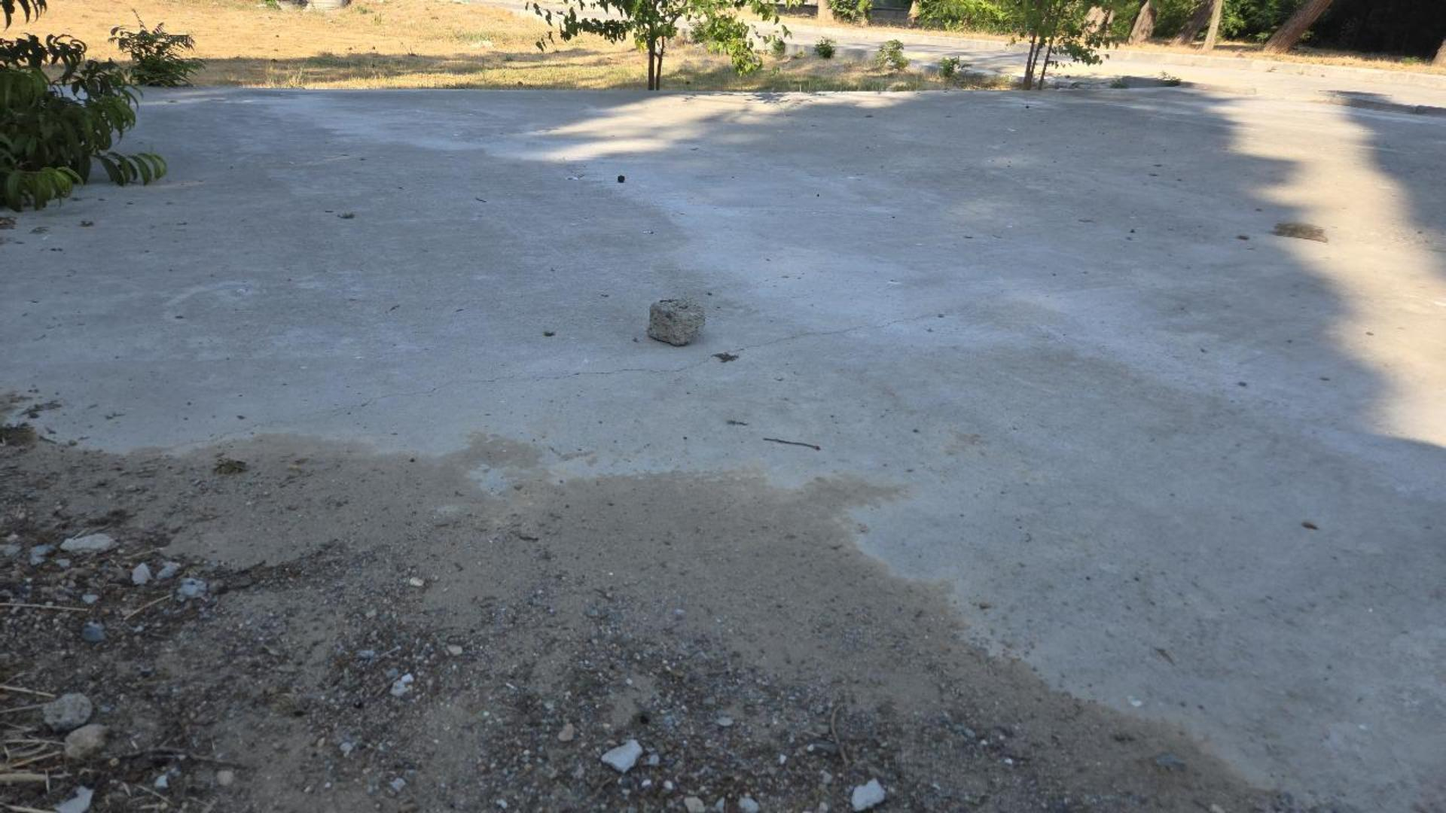rock: (647, 298, 704, 346), (43, 693, 92, 731), (64, 724, 107, 759)
